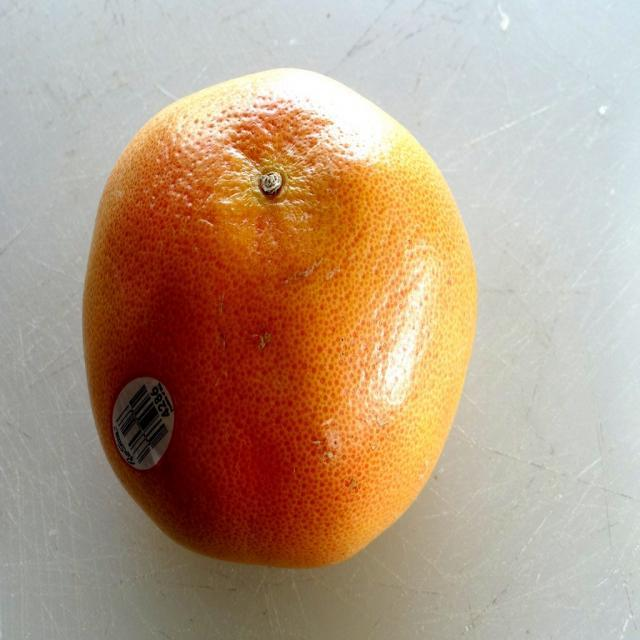Orange: (79, 63, 478, 570)
